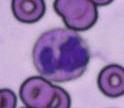N: (32, 29, 90, 82)
